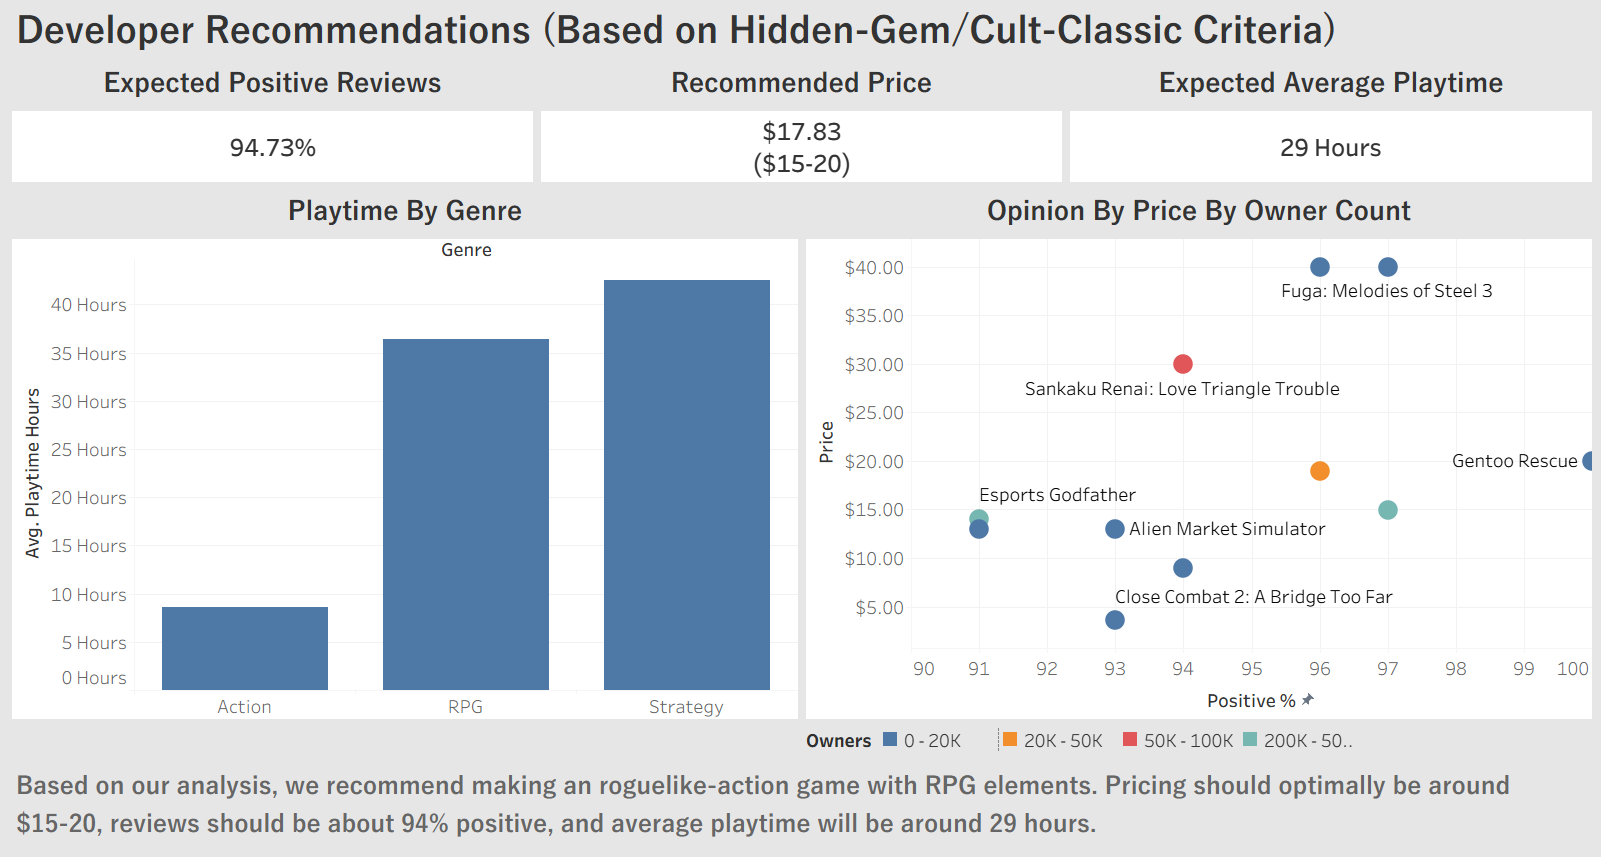

What the dashboard file says about the page in this screenshot:
{"tool":"tableau","page":{"name":"Dashboard","canvas":[1000,1000],"units":"permille","ordinal":0},"visuals":[{"type":"title","box":[5,9.2,990,63.5]},{"type":"worksheet","title":"KPI Review","mark":"Automatic","box":[5,72.8,329.9,147.8]},{"type":"worksheet","title":"KPI Price","mark":"Automatic","box":[334.9,72.8,330,147.8]},{"type":"worksheet","title":"KPI Playtimes","mark":"Automatic","box":[664.9,72.8,330.1,147.8]},{"type":"worksheet","title":"Genre Vs Playtime","mark":"Automatic","rows":["Calculation_0258991500218368"],"cols":["Focus Genre"],"box":[5,220.5,494.9,620.3]},{"type":"worksheet","title":"Opinion By Price By Owner Count","mark":"Automatic","rows":["Price (modern_inspiration_games.csv)"],"cols":["Positive % (modern_inspiration_games.csv)"],"box":[499.9,220.5,495.1,620.3]},{"type":"blank","box":[5,840.8,495,39.1]},{"type":"legend","title":"Opinion By Price By Owner Count","param":"[federated.04ecjj81fuqbq31cdwqqu1bvxtlg].[none:Estimated owners (modern_inspirat","box":[500,840.8,495,39.1]},{"type":"text","box":[5,879.9,990,110.9]}]}

Visuals, with their boxes on the dashboard's canvas, which has no fixed pixel size, in thousandths of its width and height (x1, y1, x2, y2). These are canvas units, not pixel positions in the 1601x857 screenshot, which may show the page scaled, cropped or inside an application window:
title: bbox=[5, 9, 995, 73]
"KPI Review" worksheet: bbox=[5, 73, 335, 221]
"KPI Price" worksheet: bbox=[335, 73, 665, 221]
"KPI Playtimes" worksheet: bbox=[665, 73, 995, 221]
"Genre Vs Playtime" worksheet: bbox=[5, 220, 500, 841]
"Opinion By Price By Owner Count" worksheet: bbox=[500, 220, 995, 841]
blank: bbox=[5, 841, 500, 880]
"Opinion By Price By Owner Count" legend: bbox=[500, 841, 995, 880]
text: bbox=[5, 880, 995, 991]
